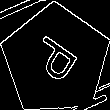P_SE: (26, 31, 86, 90)
